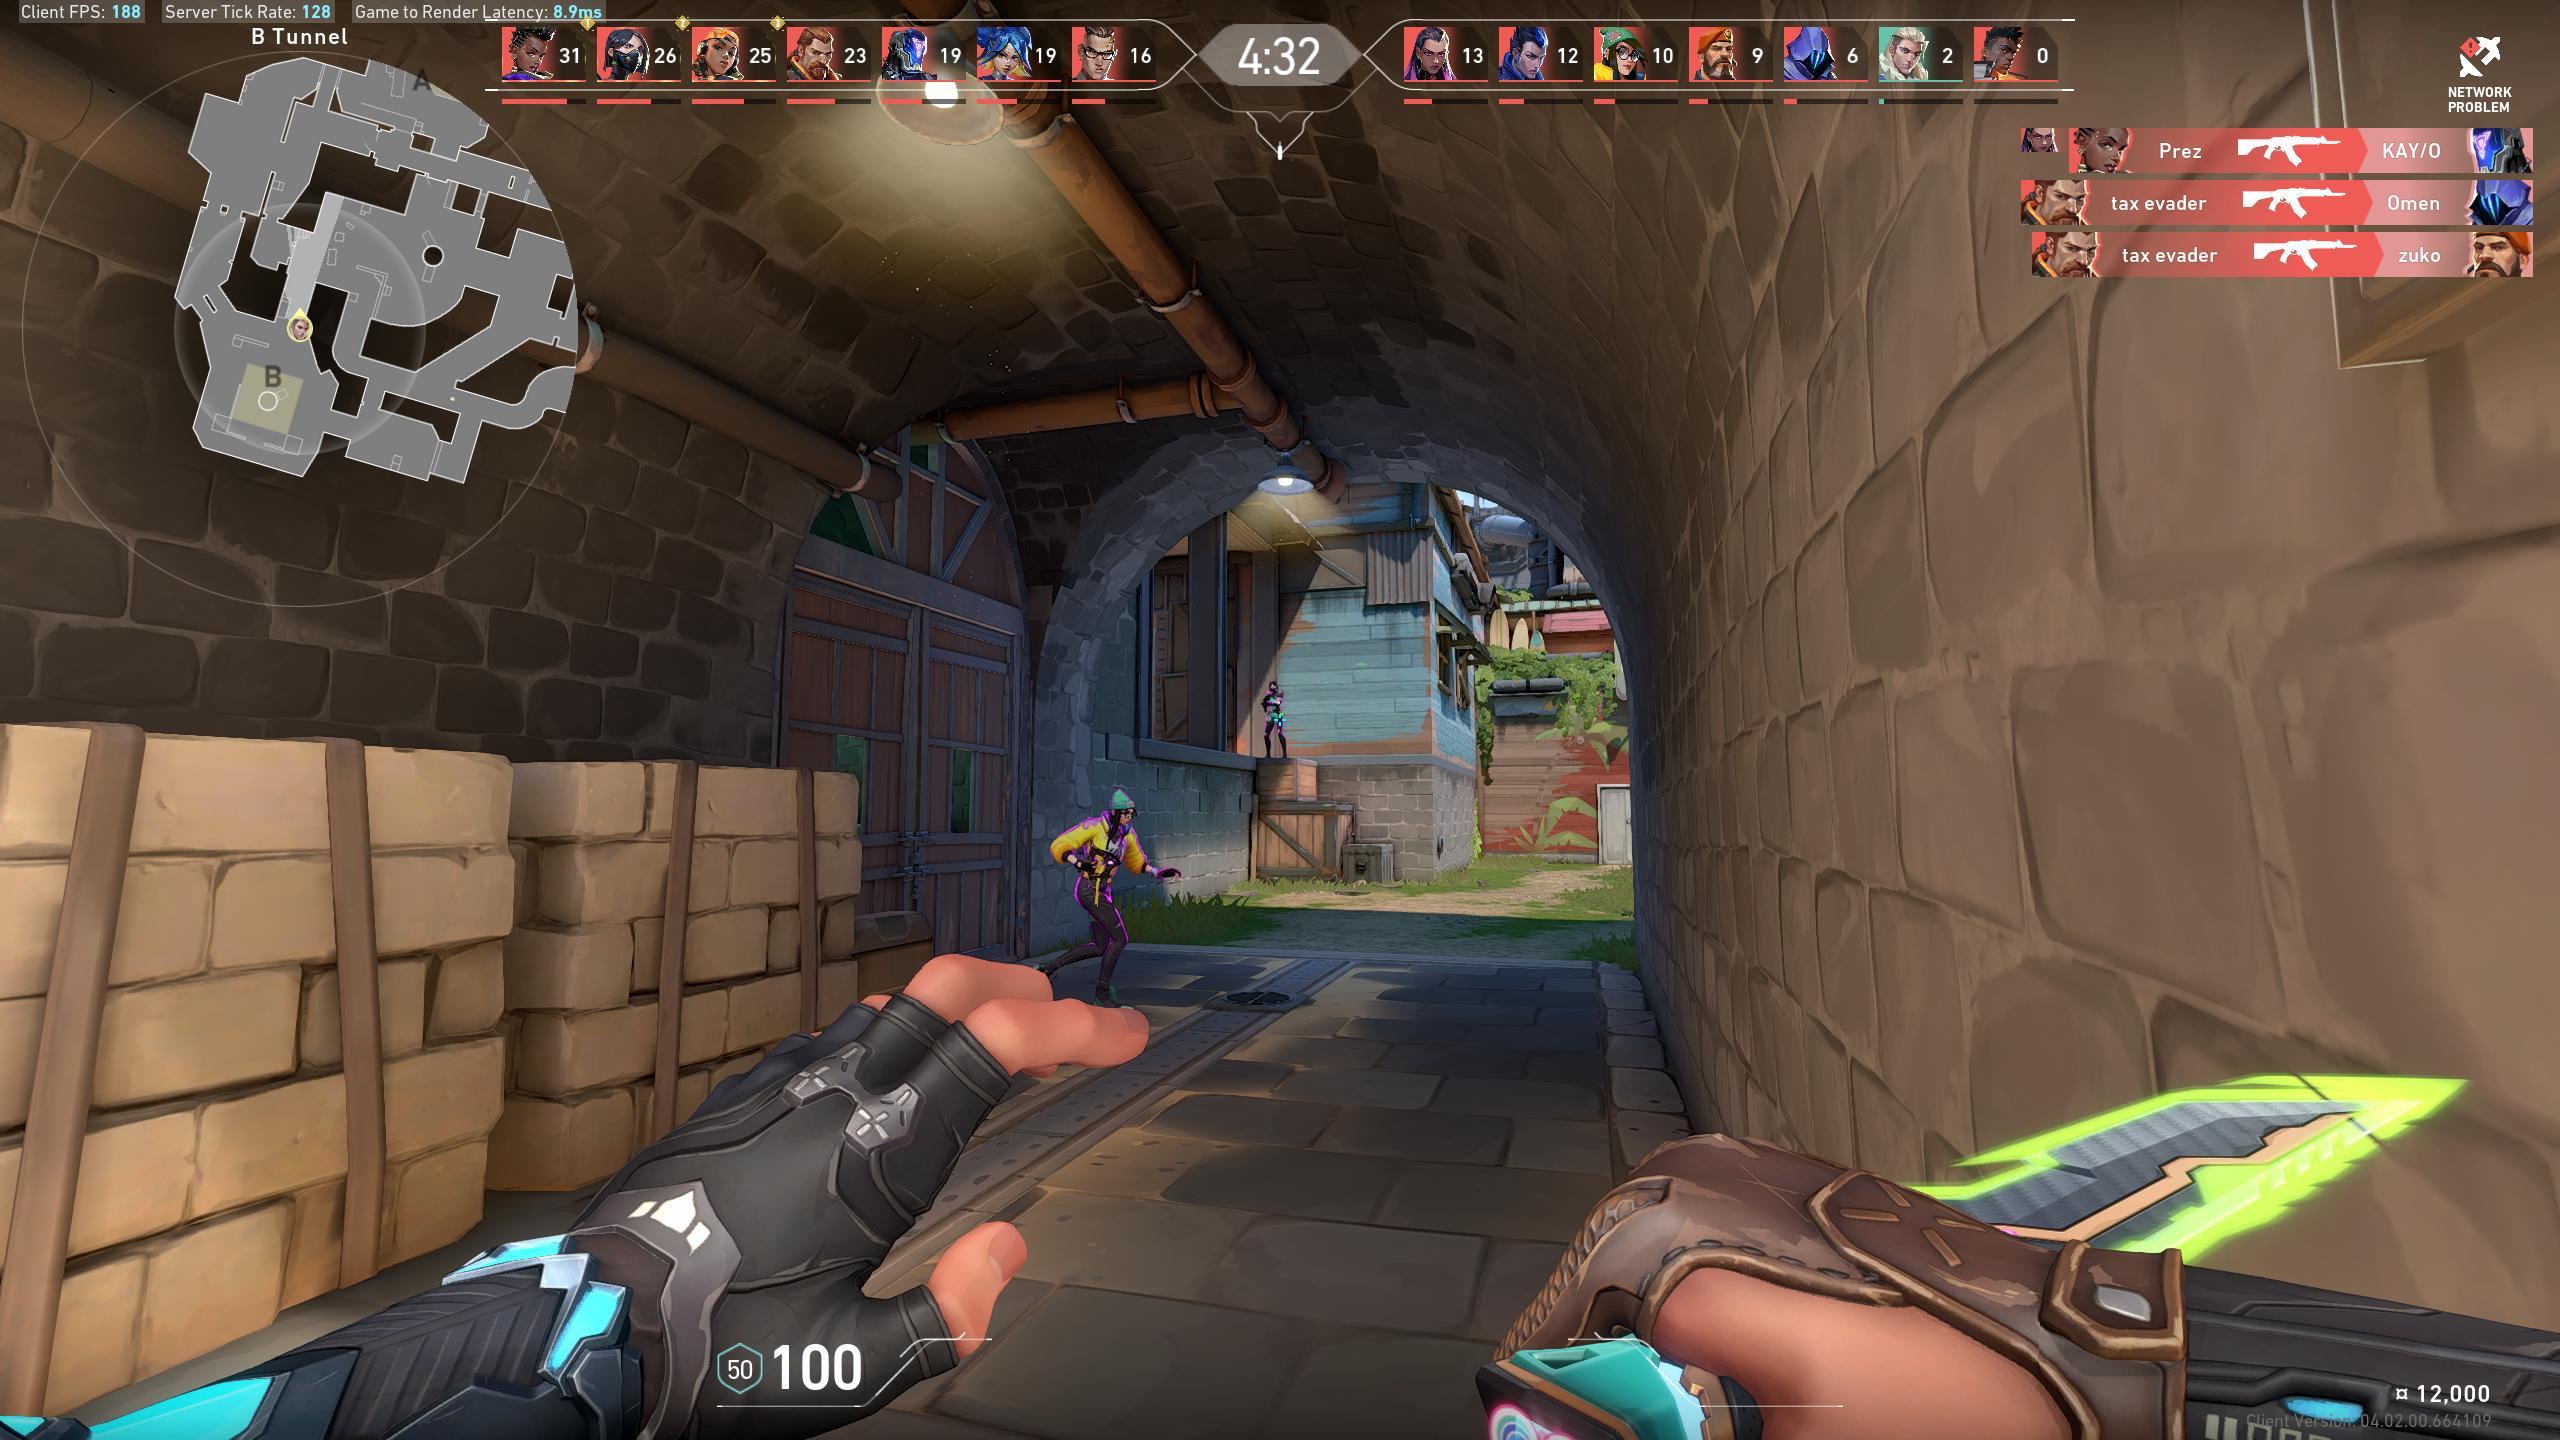enemyBody: (1094, 825, 1111, 886), (1269, 696, 1280, 714)
enemyHead: (1115, 802, 1132, 823), (1269, 686, 1278, 693)
